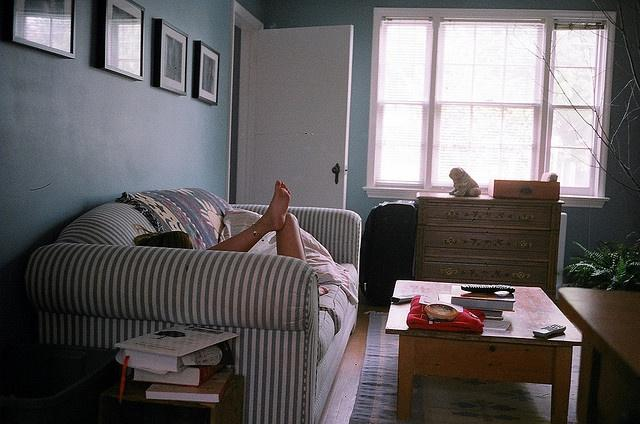Meja: (384, 278, 583, 423)
